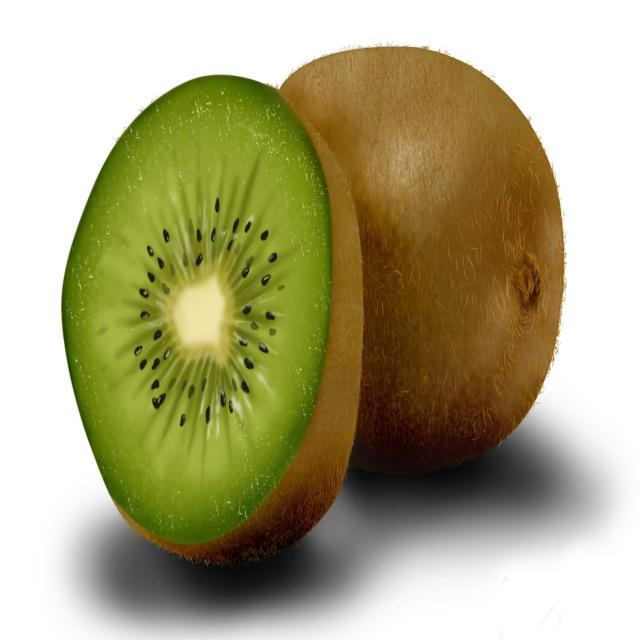Chilli Pepper: (65, 57, 373, 582), (246, 48, 570, 461)
